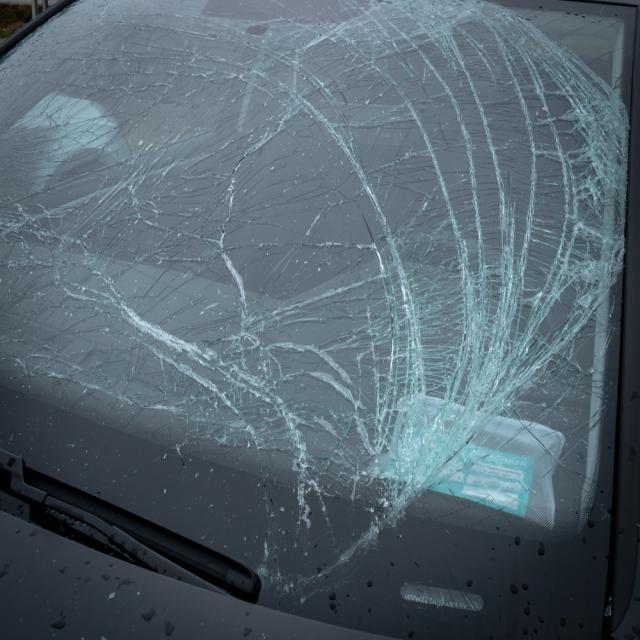glass shatter: (0, 0, 637, 640)
